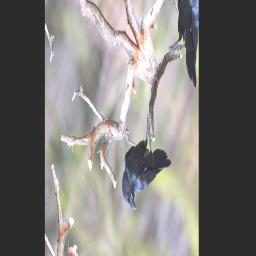Crow: (115, 105, 174, 241)
